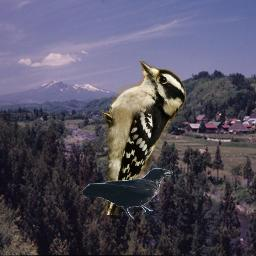Crow: (82, 168, 173, 222)
Woodpecker: (101, 61, 186, 215)
